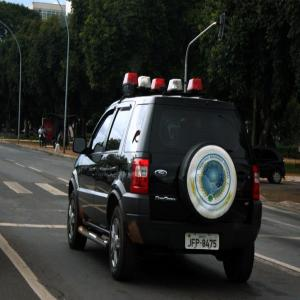Vehicle-registration-plate: (186, 233, 220, 251)
